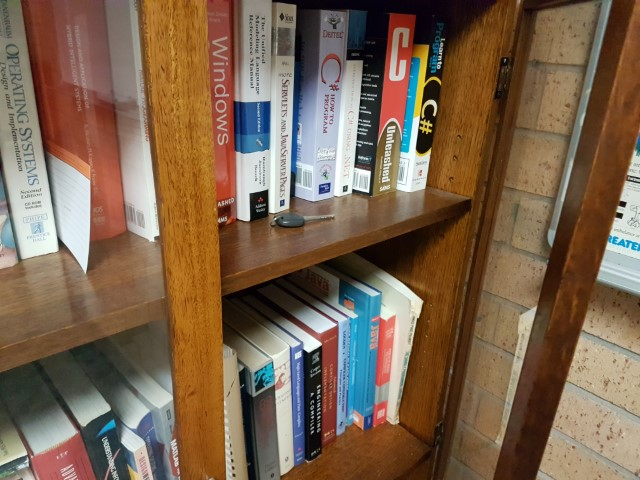key: (276, 213, 338, 225)
